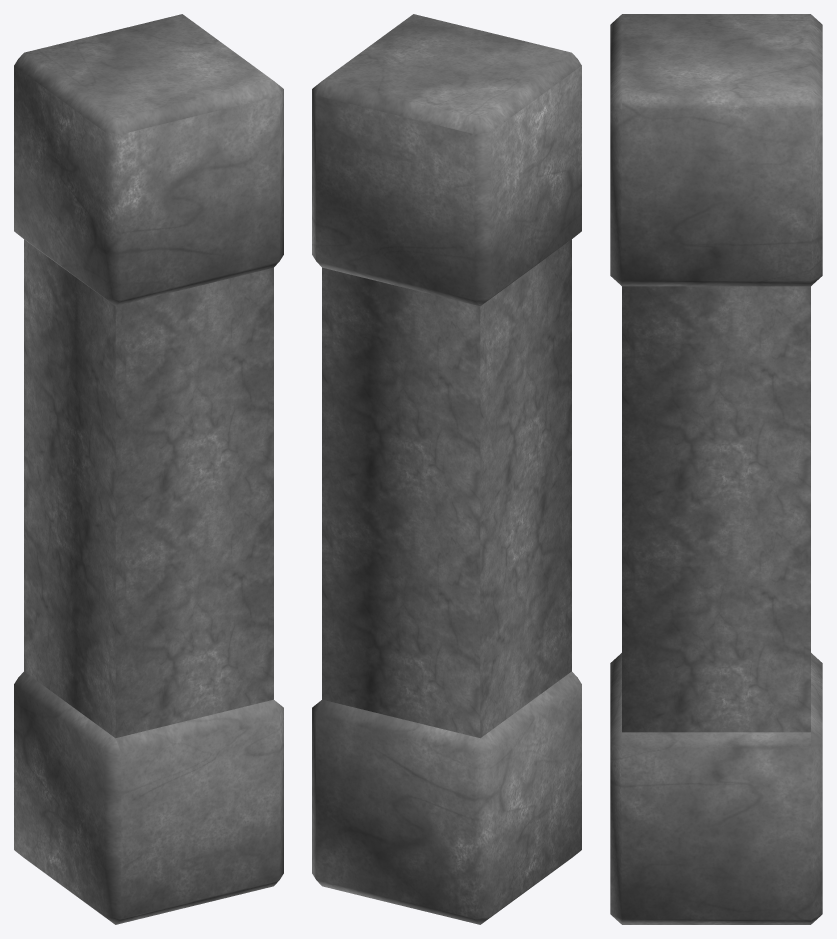
The model's file is dungeon_pillar.fbx.
3 views of the same model, side by side, from view 1: azimuth 30°, elevation 25°; view 2: azimuth 150°, elevation 25°; view 3: azimuth 270°, elevation 25° (orthographic). The views are drawn at different scales.
Parts seen in each view (by area): view 1: pillar; view 2: pillar; view 3: pillar.
Boxes of the visible parts, x1,y1,x2,y2 form: pillar: [14, 14, 283, 924]; pillar: [312, 14, 581, 924]; pillar: [610, 14, 822, 924].
Bounding box in the file's own units: 50 × 216 × 50.
